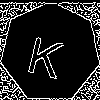K: (25, 27, 68, 79)
